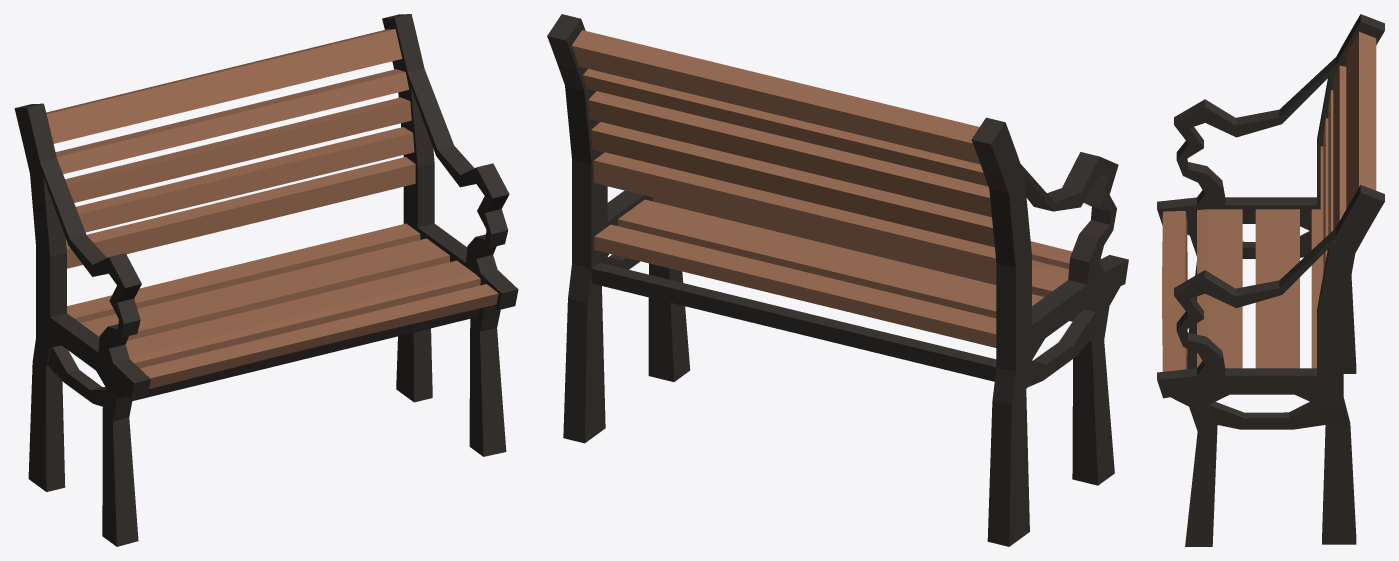
Rendered from bench.fbx.
3 renders of one model, left to right at view 1: azimuth 30°, elevation 25°; view 2: azimuth 150°, elevation 25°; view 3: azimuth 270°, elevation 25°, orthographic. The views are drawn at different scales.
Parts seen in each view (by area): view 1: bentch; view 2: bentch; view 3: bentch.
Boxes of the visible parts, bbox=[...] form: bentch: bbox=[14, 14, 518, 546]; bentch: bbox=[547, 14, 1128, 546]; bentch: bbox=[1157, 14, 1384, 546].
Bounding box in the file's own units: 506 × 461 × 269.
1 material, 1 textured.
